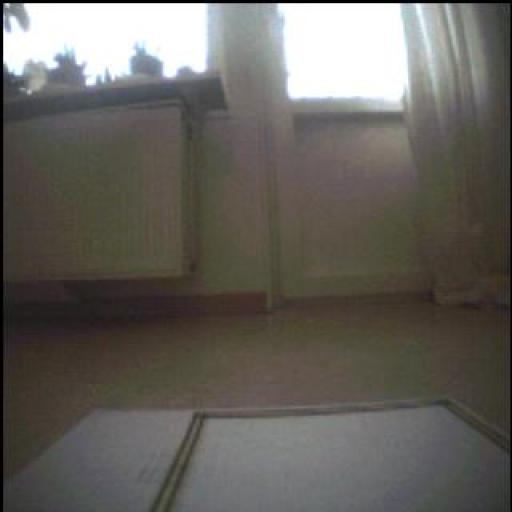Pad: (1, 406, 512, 508)
